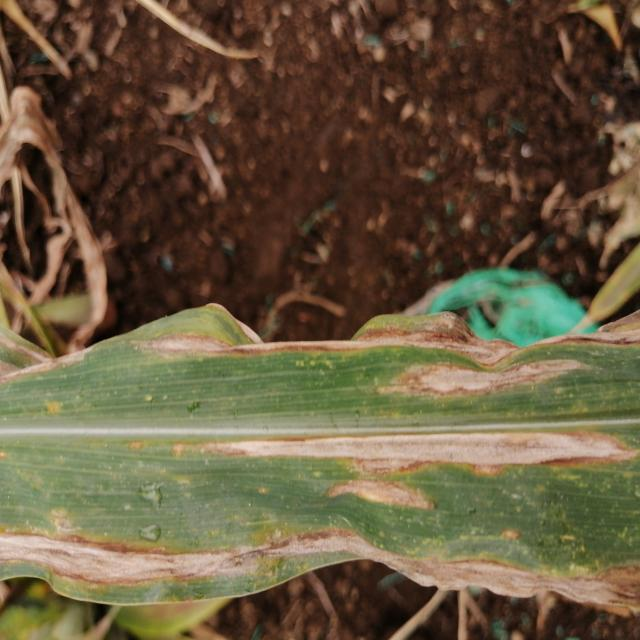Corn_Leaf_Blight: (0, 313, 640, 631)
